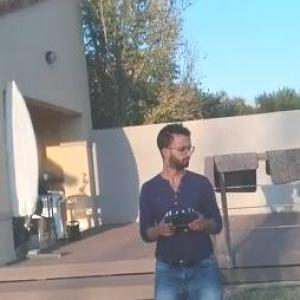follow: (139, 116, 235, 299)
